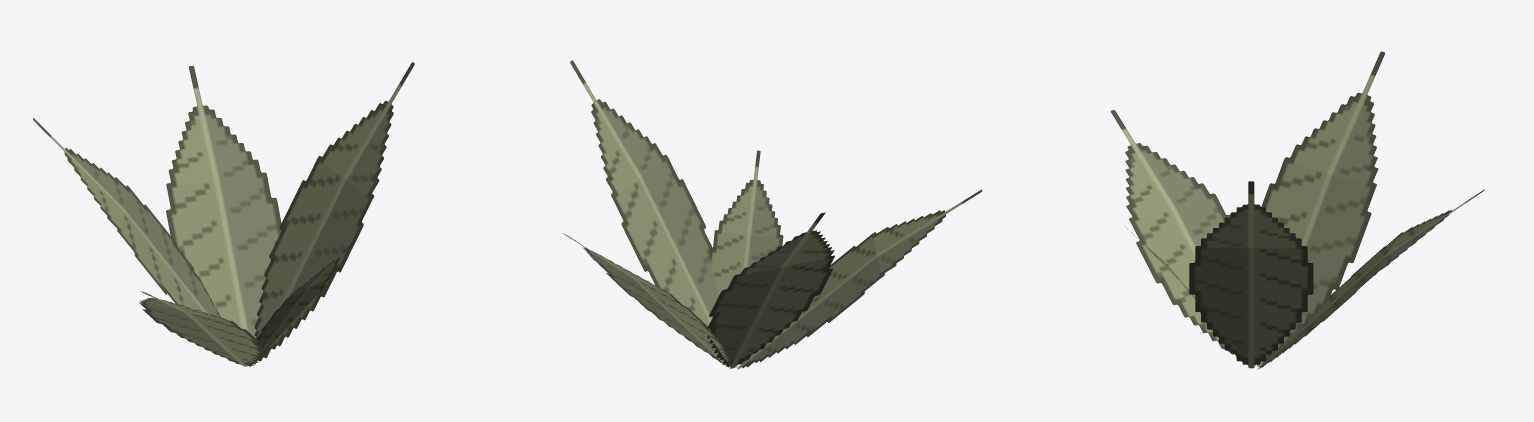
Rendered from A08_Rosette.fbx.
The picture shows the model from 3 angles, left to right: view 1: azimuth 30°, elevation 25°; view 2: azimuth 150°, elevation 25°; view 3: azimuth 270°, elevation 25°; orthographic projection.
Parts seen in each view (by area): view 1: A08_rosette; view 2: A08_rosette; view 3: A08_rosette.
Boxes of the visible parts, box(x1,y1,x2,y2) form: A08_rosette: box(33, 62, 414, 366); A08_rosette: box(563, 60, 982, 369); A08_rosette: box(1110, 51, 1484, 369).
Bounding box in the file's own units: 0.7894 × 0.5277 × 0.8273.
